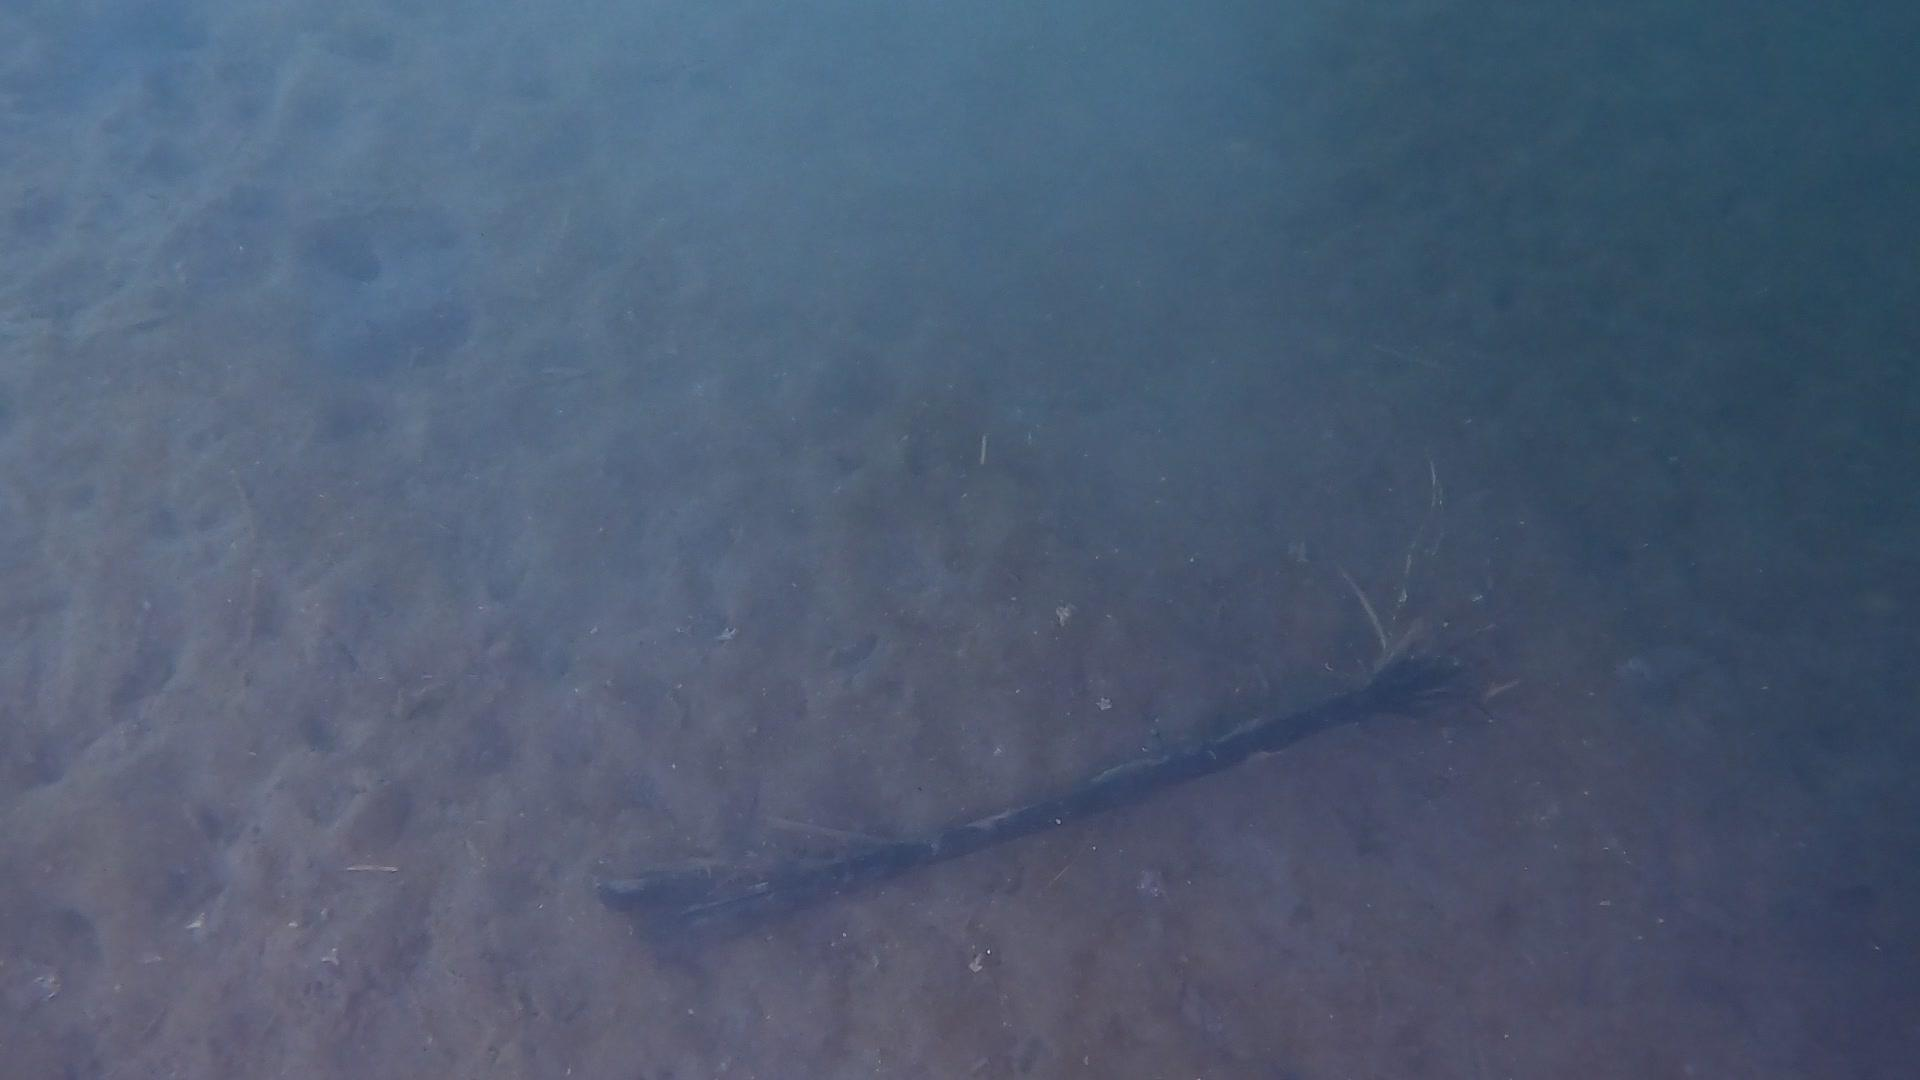wood: (589, 628, 1458, 951)
